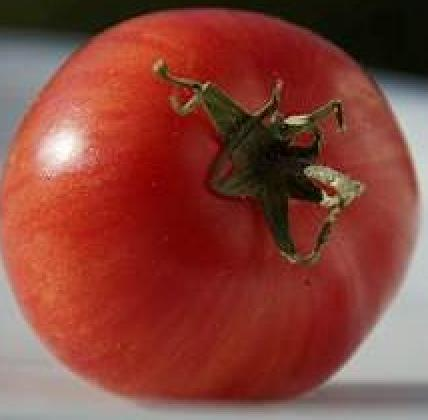tomato: (16, 12, 414, 399)
